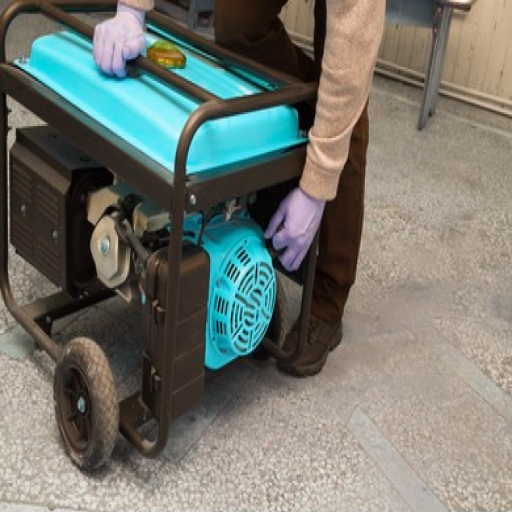portable_generator: (1, 1, 315, 467)
